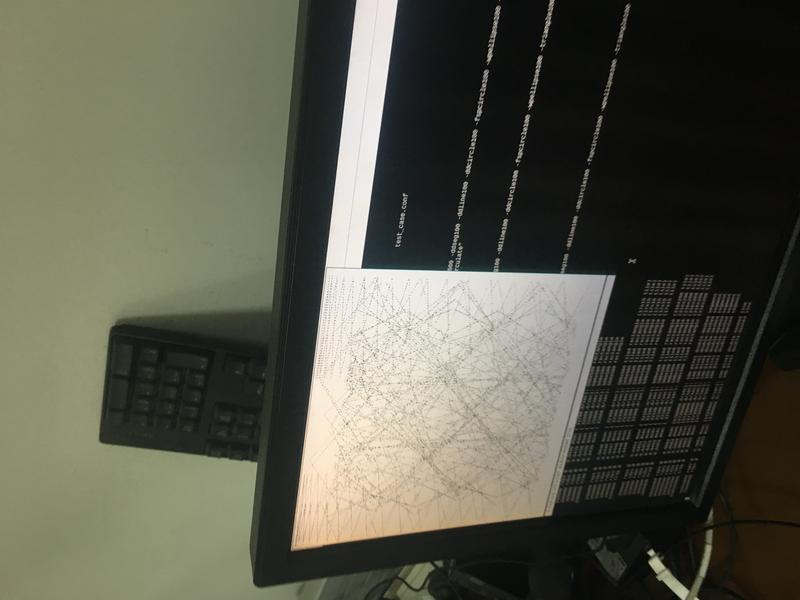xrandr_pass: (283, 258, 625, 553)
